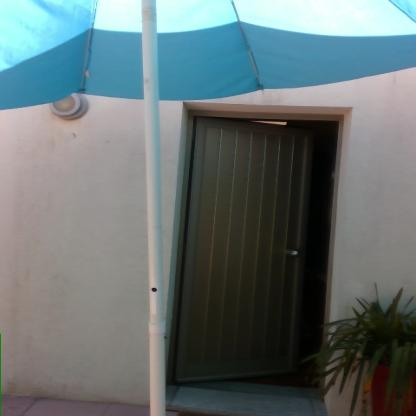semi: (159, 94, 360, 398)
